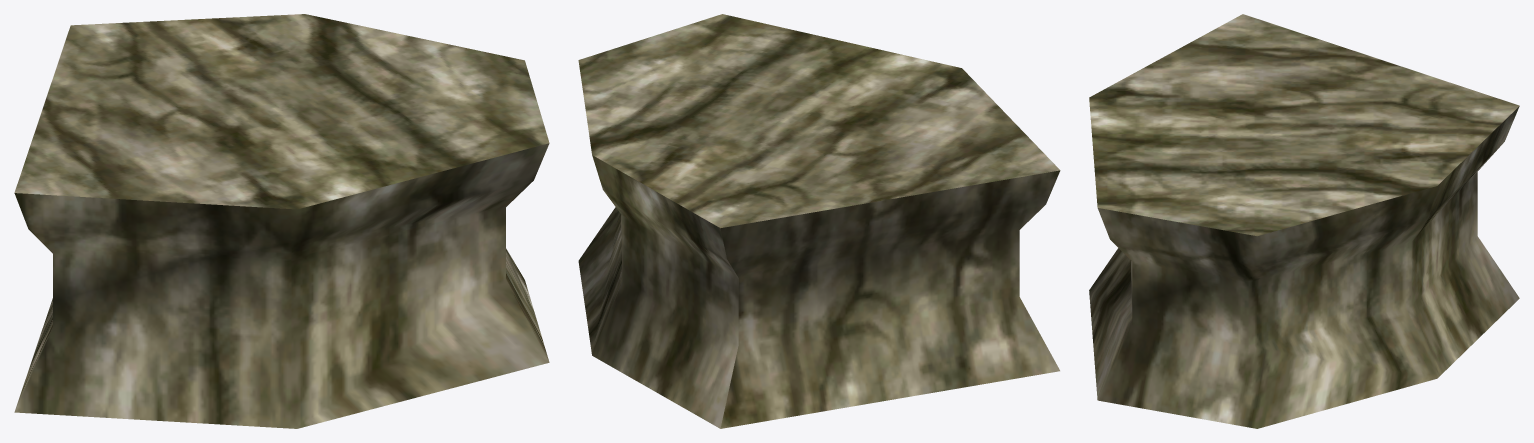
File: CB_NEWPLAYSURFACE_CB_PLAYSURFACE151.fbx
3 renders of one model, left to right at view 1: azimuth 30°, elevation 25°; view 2: azimuth 150°, elevation 25°; view 3: azimuth 270°, elevation 25°, orthographic. The views are drawn at different scales.
Visible parts, largest first — view 1: CB_NEWPLAYSURFACE_CB_PLAYSURFACE151; view 2: CB_NEWPLAYSURFACE_CB_PLAYSURFACE151; view 3: CB_NEWPLAYSURFACE_CB_PLAYSURFACE151.
Boxes of the visible parts, x1=… form: CB_NEWPLAYSURFACE_CB_PLAYSURFACE151: x1=14, y1=14, x2=549, y2=428; CB_NEWPLAYSURFACE_CB_PLAYSURFACE151: x1=578, y1=14, x2=1060, y2=428; CB_NEWPLAYSURFACE_CB_PLAYSURFACE151: x1=1089, y1=14, x2=1519, y2=428.
Size of the model in its own units: 74197 by 30000 by 60767.
2 materials, 2 textured.
